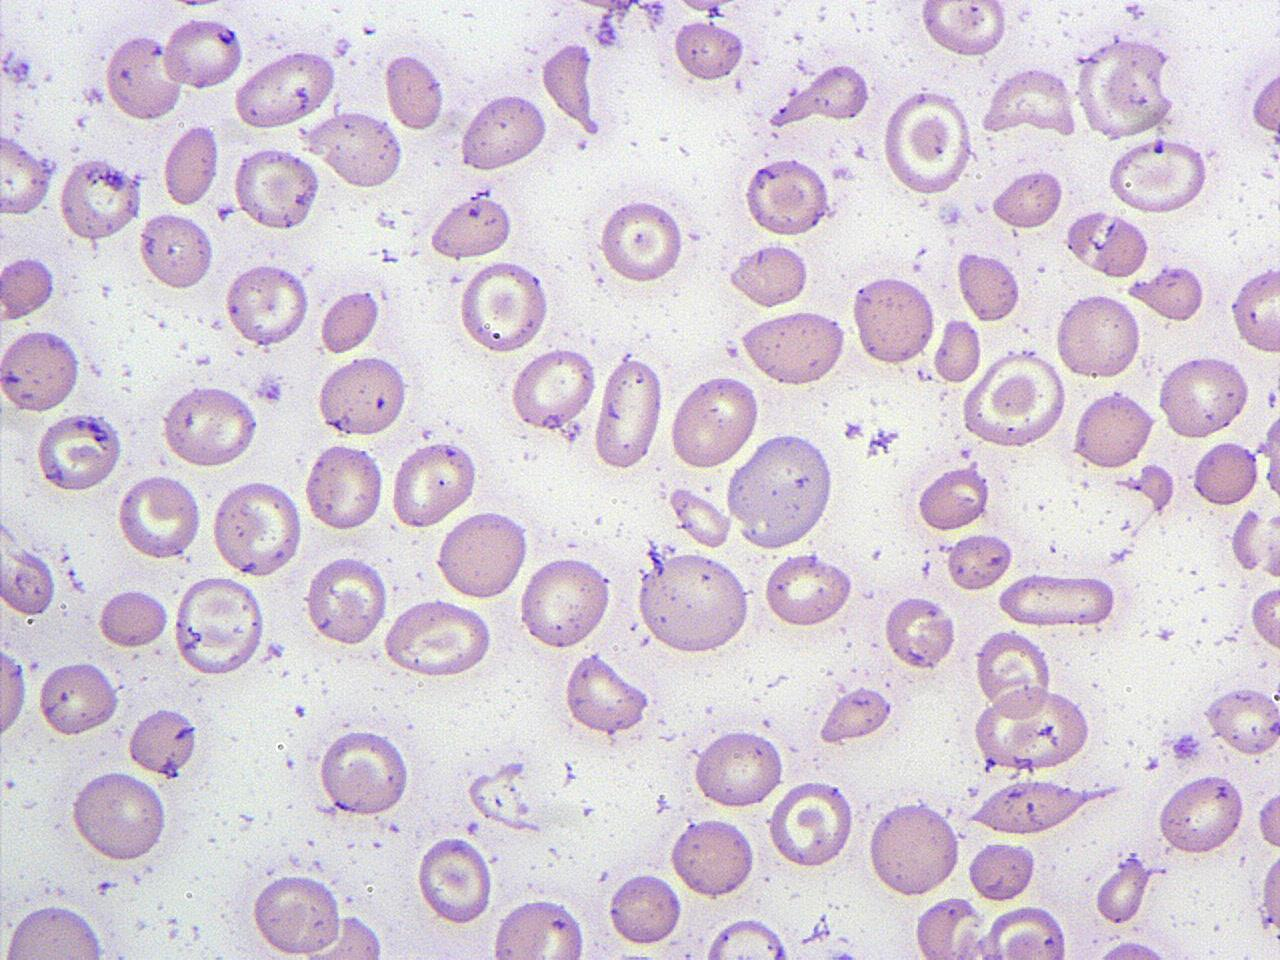Platelets: (1231, 505, 1275, 576), (1259, 514, 1280, 584), (251, 370, 286, 403), (1172, 730, 1202, 761), (822, 936, 861, 958), (594, 20, 622, 50), (9, 55, 34, 84), (938, 199, 964, 226), (688, 2, 725, 19), (330, 35, 354, 59), (82, 82, 107, 105), (214, 201, 240, 222), (867, 432, 891, 453), (1108, 545, 1136, 563), (263, 640, 287, 661), (842, 420, 866, 441), (94, 878, 117, 896), (378, 247, 401, 264), (1265, 386, 1279, 412), (464, 818, 481, 834), (1145, 754, 1161, 769)
RBC: (725, 430, 837, 549), (635, 548, 751, 657), (960, 349, 1068, 450), (881, 87, 976, 196), (974, 685, 1092, 770), (172, 575, 268, 679), (958, 774, 1118, 834), (69, 769, 170, 864), (210, 477, 304, 578), (866, 800, 962, 898), (456, 257, 551, 356), (382, 600, 495, 682), (516, 554, 610, 650), (434, 507, 530, 600), (668, 373, 760, 470), (318, 726, 412, 819), (159, 383, 260, 468), (737, 310, 848, 387), (1106, 135, 1210, 216), (233, 49, 338, 129), (249, 870, 344, 958), (1155, 353, 1251, 440), (596, 196, 688, 286), (388, 438, 477, 531), (849, 273, 936, 367), (1054, 290, 1142, 382), (316, 351, 408, 438), (116, 471, 203, 563), (305, 553, 389, 648), (1097, 34, 1175, 136), (594, 355, 663, 470), (766, 779, 854, 869), (56, 152, 142, 242), (510, 344, 596, 434), (742, 153, 830, 240), (231, 145, 320, 231), (562, 650, 652, 735), (312, 107, 404, 190), (692, 727, 784, 810), (304, 438, 385, 532), (224, 260, 310, 348), (459, 89, 548, 174), (1155, 772, 1245, 856), (33, 410, 123, 494), (974, 626, 1054, 720), (103, 30, 184, 122), (0, 324, 81, 415), (669, 815, 755, 900), (415, 834, 494, 926), (1070, 387, 1156, 471), (764, 550, 854, 629), (36, 657, 120, 740), (996, 572, 1118, 629), (984, 64, 1078, 137), (162, 13, 244, 93), (489, 894, 588, 960), (2, 901, 112, 959), (139, 208, 214, 293), (0, 512, 59, 619), (1064, 208, 1150, 280), (883, 592, 956, 671), (429, 194, 513, 262), (1204, 683, 1280, 758), (608, 870, 683, 946), (731, 240, 811, 310), (917, 0, 1008, 60), (126, 706, 200, 776), (672, 16, 745, 85), (956, 248, 1022, 324), (280, 912, 388, 958), (384, 51, 446, 131), (915, 466, 990, 532), (1093, 848, 1155, 926), (542, 40, 596, 129), (1229, 261, 1280, 355), (162, 123, 219, 207), (965, 836, 1037, 902), (991, 167, 1065, 231), (984, 904, 1068, 960), (1192, 438, 1260, 507), (816, 684, 894, 744), (98, 586, 170, 650), (0, 131, 52, 218), (804, 61, 872, 123), (944, 531, 1012, 593), (0, 249, 57, 322), (670, 483, 734, 548), (1141, 260, 1205, 323), (319, 286, 378, 354), (702, 916, 792, 960), (932, 314, 983, 385), (988, 367, 1043, 429), (1247, 54, 1279, 154), (0, 638, 27, 750), (1255, 839, 1280, 951), (1229, 505, 1269, 574), (1084, 936, 1194, 960), (1249, 584, 1279, 652), (1139, 461, 1177, 512), (1254, 786, 1280, 852)
WBC: (726, 430, 838, 550), (162, 381, 263, 474), (760, 551, 858, 629), (1255, 840, 1280, 952)
